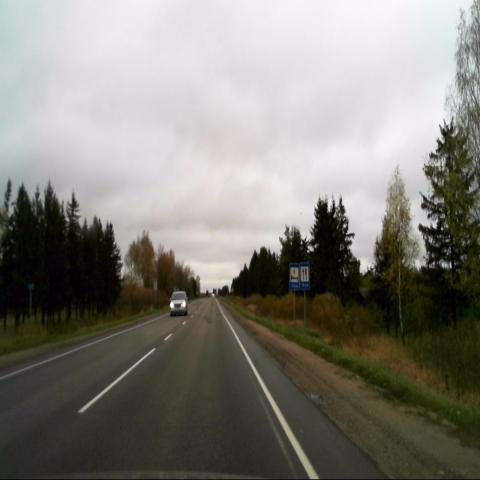7_2: (288, 262, 301, 291)
7_7: (299, 262, 310, 290)
